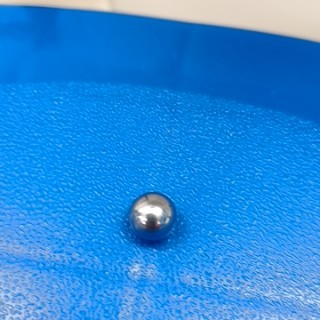ironball: (111, 181, 183, 256)
